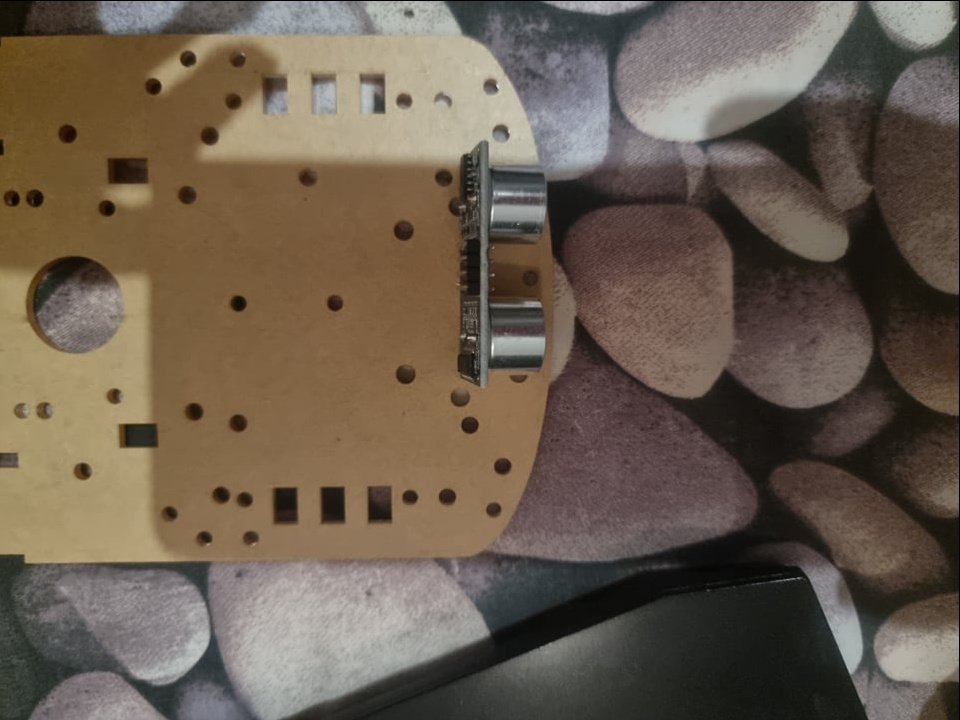SENSOR: (454, 137, 551, 388)
